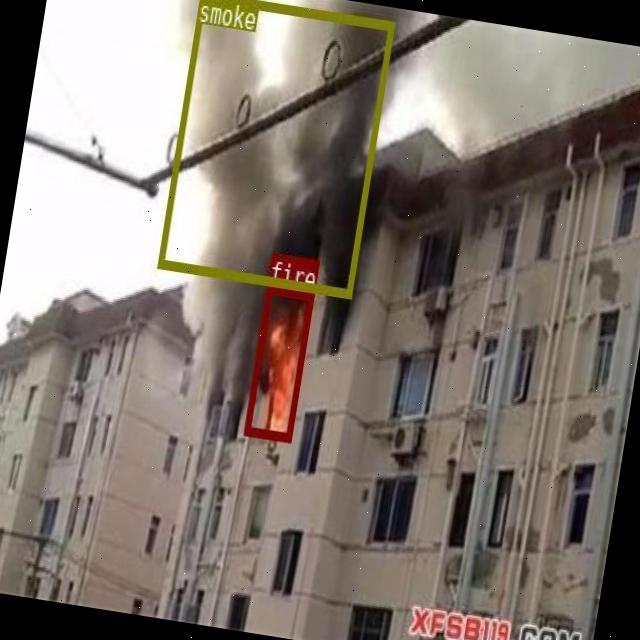fire: (243, 284, 314, 441)
smoke: (156, 0, 393, 296)
